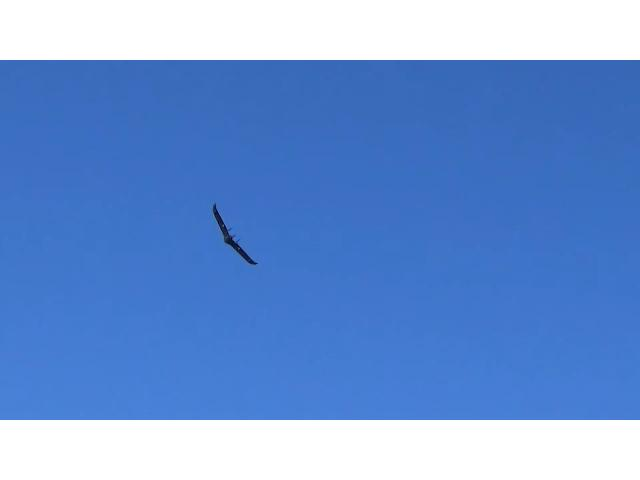Anti-Drone: (182, 188, 276, 274)
